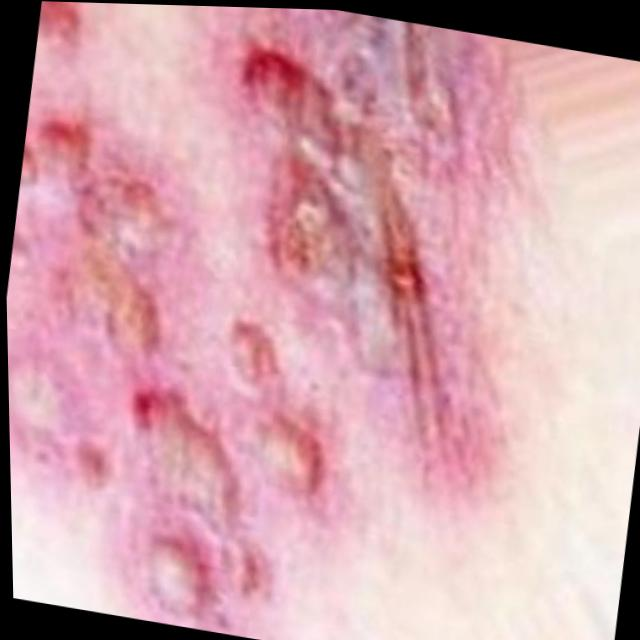Shingles: (0, 0, 477, 640)
